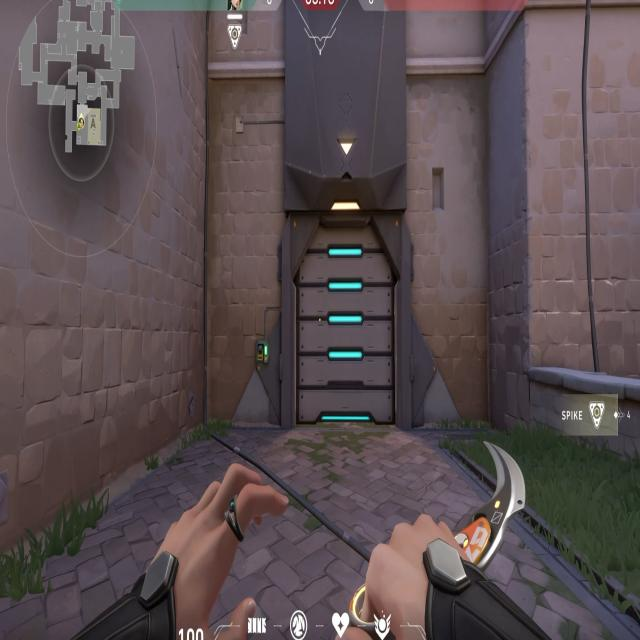A_Door: (292, 211, 404, 432)
